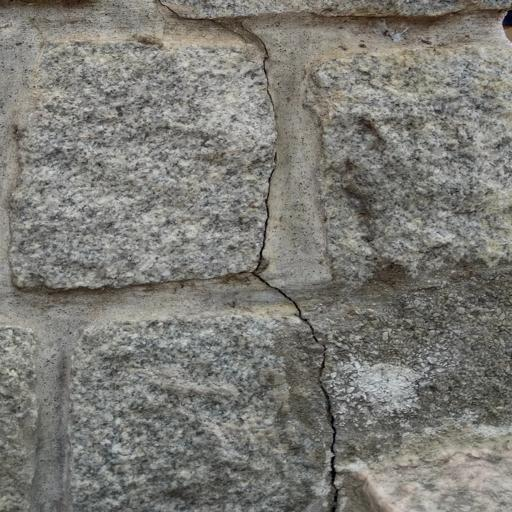minor_crack: (158, 0, 374, 512)
